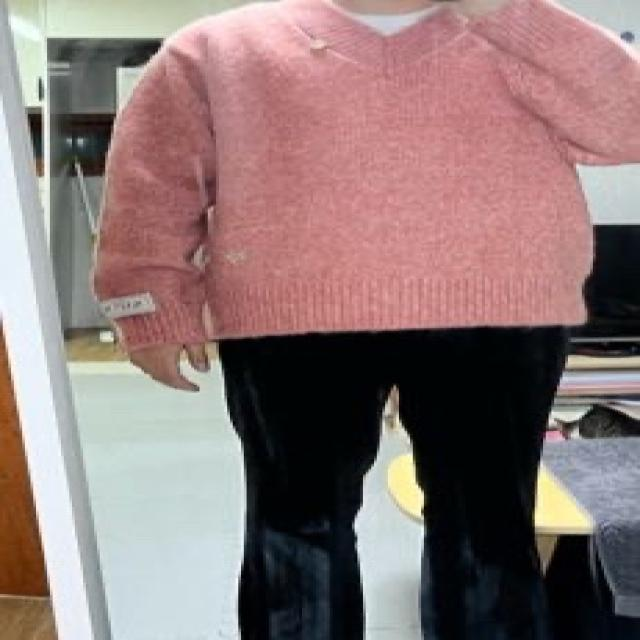slacks: (222, 324, 572, 640)
sweater: (95, 1, 639, 352)
